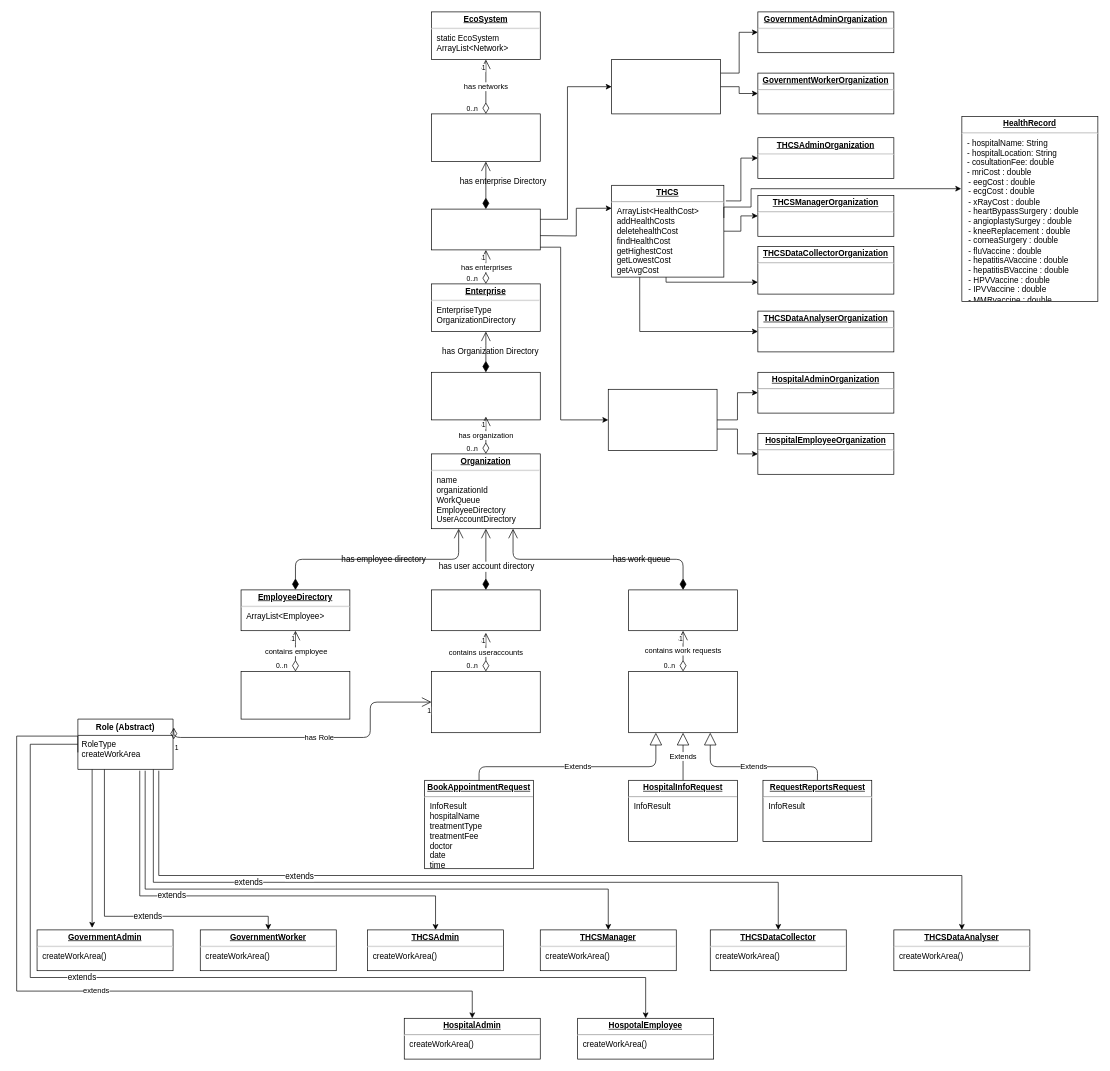
The diagram is 1110 pixels wide and 1071 high, and some of its shapes have lost their labels. The centre of each missing label's shape, as x and y in pixels:
Employee employeeID employeeName: (295,695)
EnterpriseDirectory ArrayList<Enterprise>: (485,229)
Government: (665,86)
Hospital: (662,420)
Network name EnterpriseDirectory: (485,137)
OrganizationDirectory ArrayList<Organization>: (485,396)
UserAccount userName password Role WorkQueue: (485,702)
UserAccountDirectory ArrayList<UserAccount>: (485,610)
WorkQueue ArrayList<WorkRequest>: (682,610)
WorkRequest sender receiver status message: (682,702)
